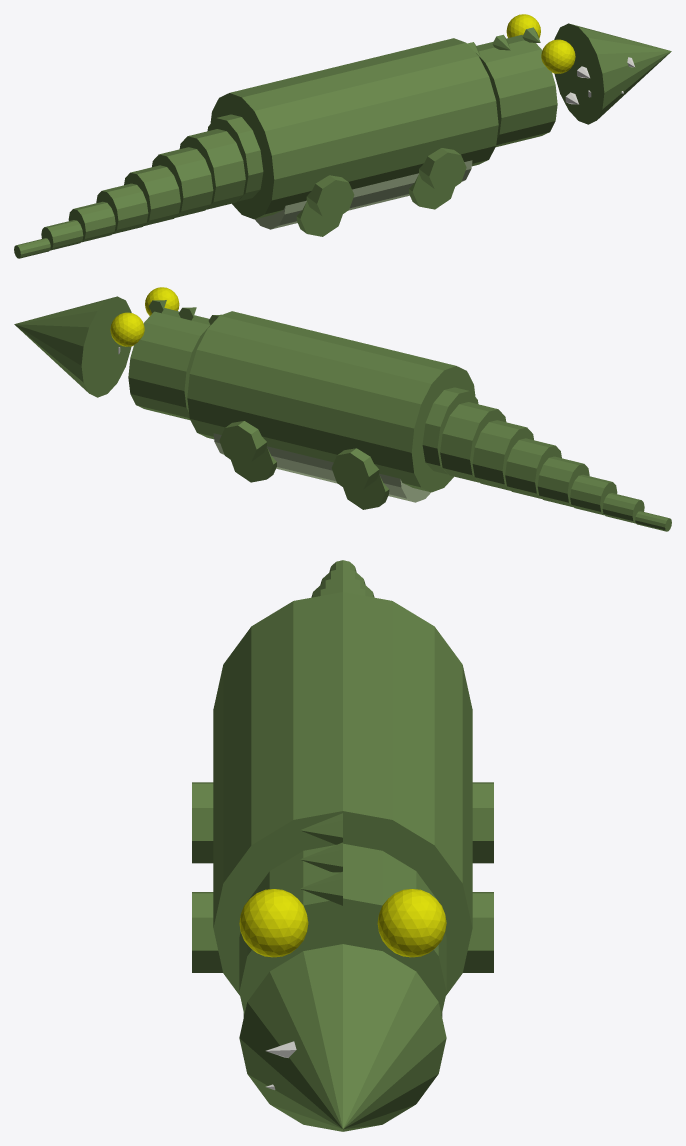
Rendered from piglet_crocodile.glb.
3 views of the same model, one above another, from view 1: azimuth 30°, elevation 25°; view 2: azimuth 150°, elevation 25°; view 3: azimuth 270°, elevation 25° (orthographic). The views are drawn at different scales.
Visible parts, largest first — view 1: geometry_0; view 2: geometry_0; view 3: geometry_0.
Part boxes in pixels (x1,y1,x2,y2): geometry_0: (14,14,671,258); geometry_0: (14,287,671,531); geometry_0: (192,560,493,1131).
Size of the model in its own units: 1.4 by 0.276 by 0.28.
